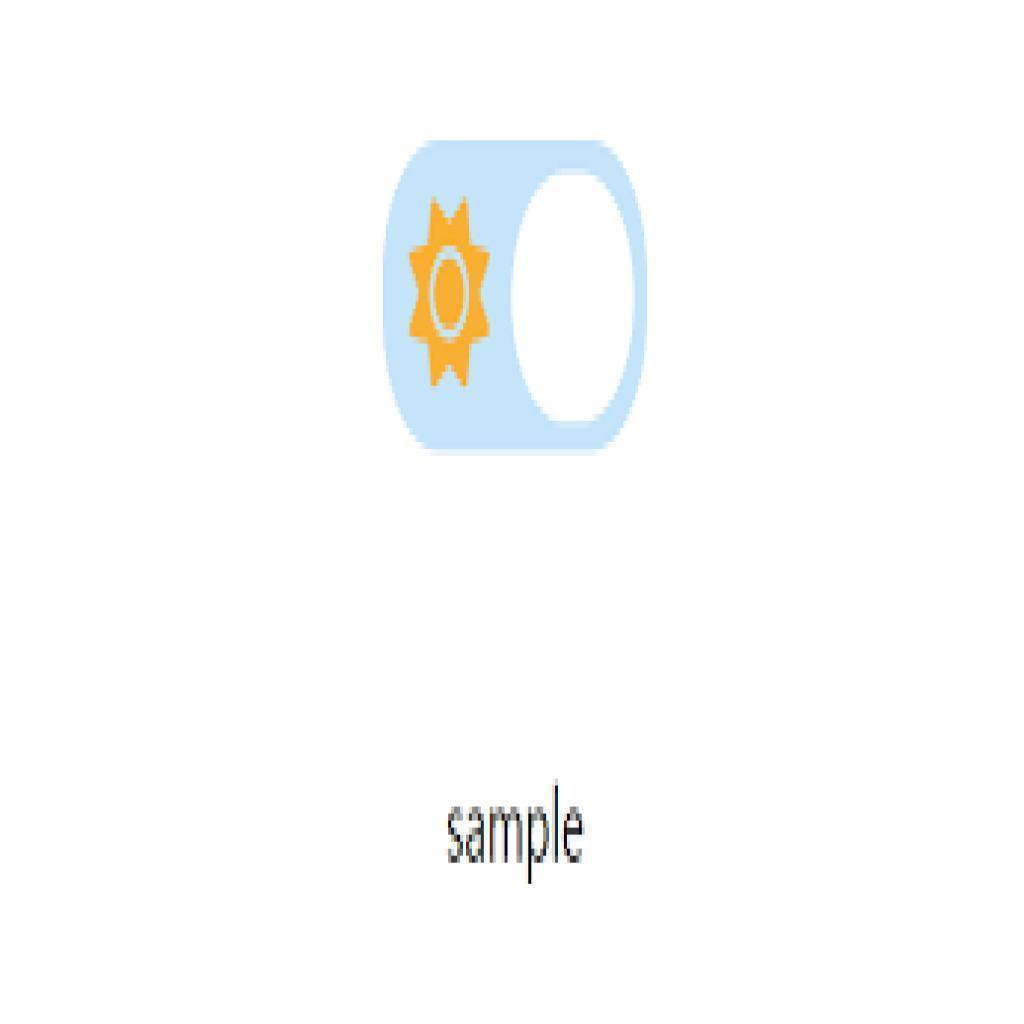switch: (382, 142, 646, 449)
